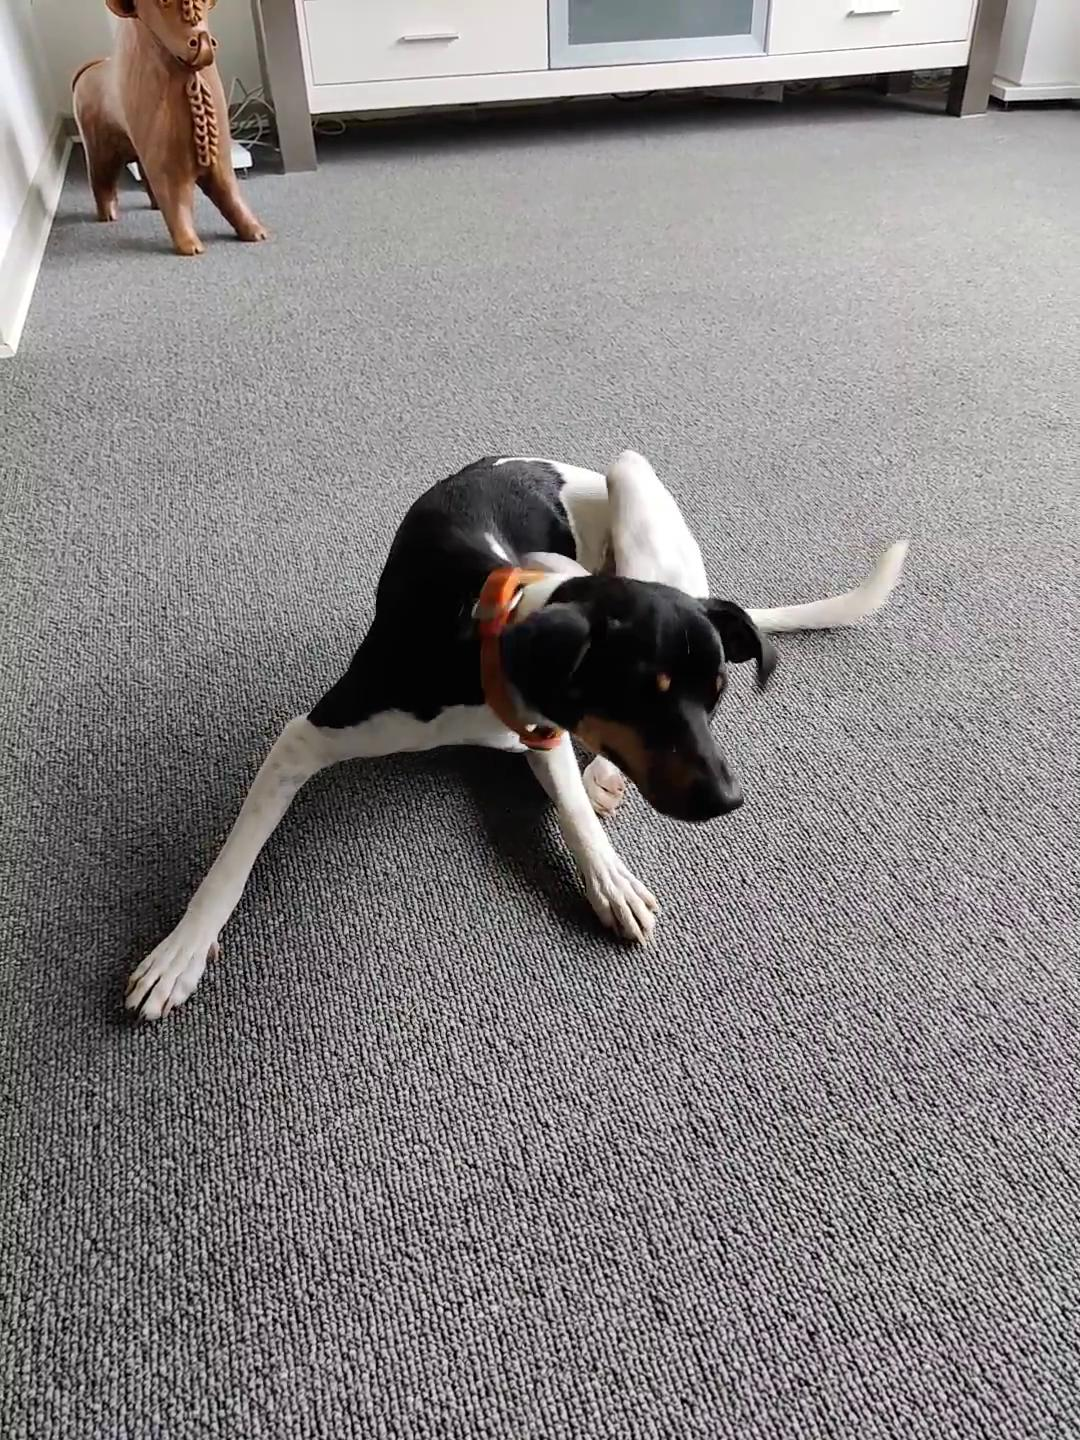Dog: (118, 443, 912, 1020)
